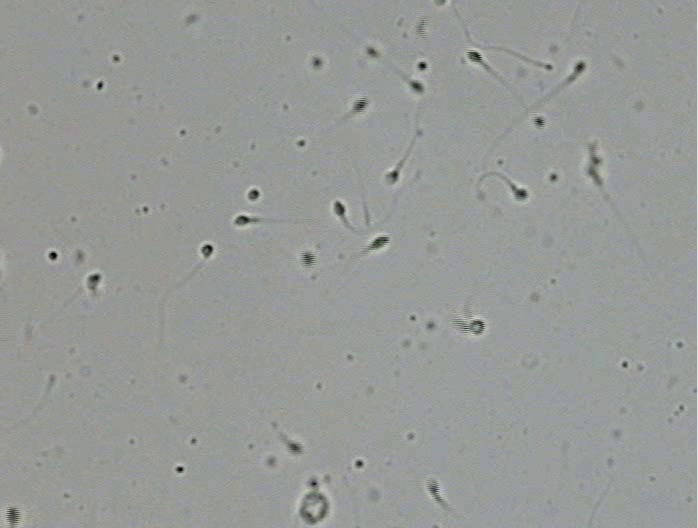Impurity: (298, 476, 329, 524)
S: (5, 506, 21, 527), (368, 236, 390, 251), (299, 250, 317, 268), (425, 478, 440, 498), (452, 318, 469, 335), (352, 96, 368, 113), (470, 319, 486, 335), (587, 167, 602, 184), (466, 50, 483, 64), (287, 441, 303, 454), (234, 215, 252, 226), (415, 18, 426, 36), (409, 80, 424, 93), (201, 244, 214, 258), (87, 274, 101, 287), (386, 170, 399, 184), (513, 188, 528, 200), (334, 201, 345, 216), (247, 189, 260, 201), (532, 116, 545, 128), (574, 61, 585, 75), (589, 155, 601, 166), (366, 47, 377, 57), (417, 61, 427, 71), (312, 58, 321, 66), (434, 1, 447, 6)
